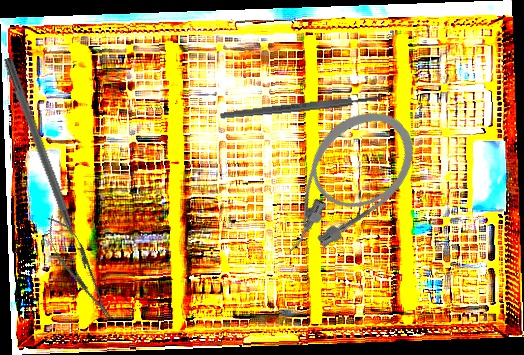Cannula: (250, 92, 433, 273)
Needle Holder: (37, 209, 122, 328)
Pusher: (1, 56, 87, 266)
Scalpel Handle: (218, 93, 383, 121)
